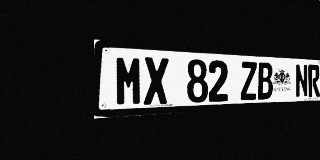2: (208, 60, 228, 102)
8: (187, 59, 208, 103)
B: (257, 62, 273, 100)
M: (115, 55, 143, 106)
N: (295, 64, 308, 98)
R: (308, 65, 320, 97)
X: (144, 57, 169, 105)
Z: (240, 61, 257, 100)
